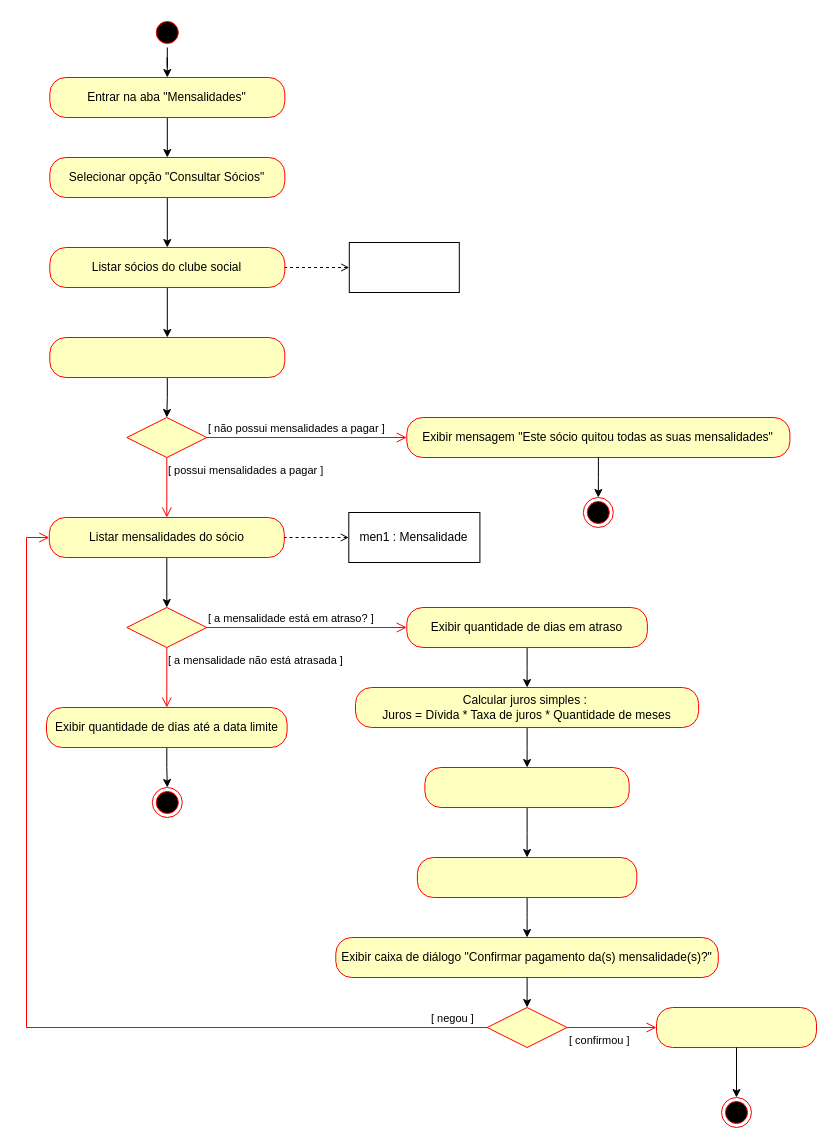
The diagram is 834 pixels wide and 1145 high, and some of its shapes have lost their labels. Here are the shapes that lost their labels. From the top down, the centre of each, then its label:
At (403,267): "soc1 : Sócio".
At (167,357): "Selecionar sócio".
At (526,787): "Exibir juros da mensalidade".
At (526,877): "Selecionar mensalidade(s) para quitar".
At (736,1027): "Quitar mensalidade(s)".
